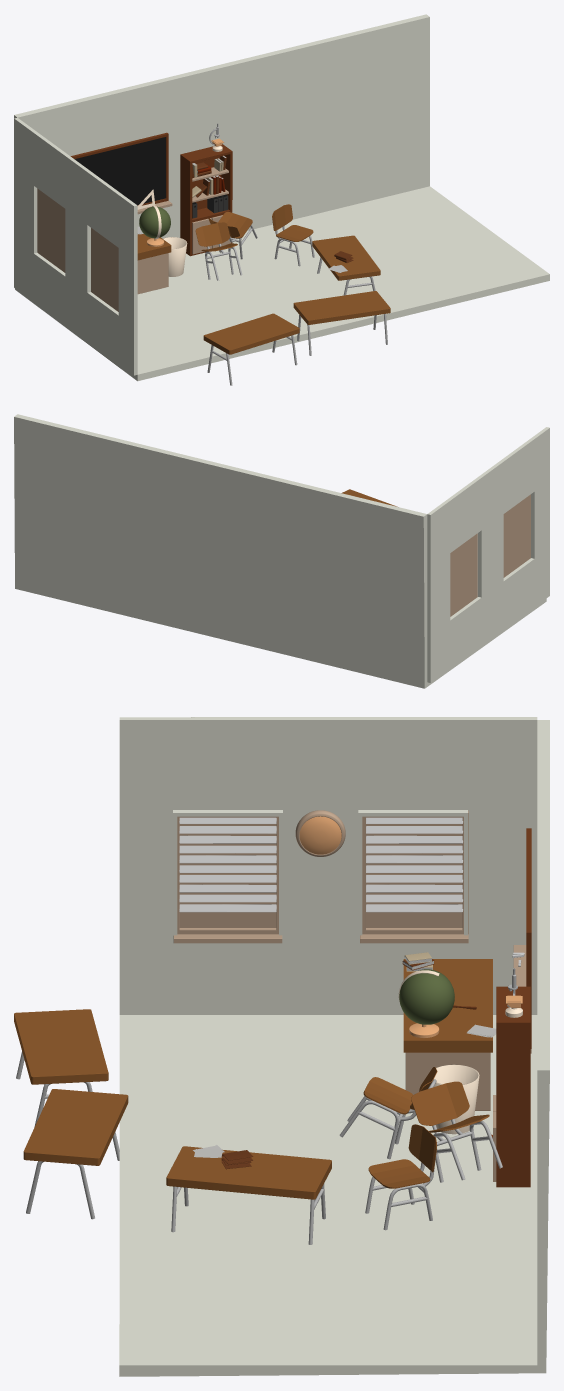
File: classroom.fbx
3 renders of one model, top to bottom at view 1: azimuth 30°, elevation 25°; view 2: azimuth 150°, elevation 25°; view 3: azimuth 270°, elevation 25°, orthographic. The views are drawn at different scales.
Visible parts, largest first — view 1: Plane.029, Plane.030, Plane.005, Plane.004, Plane.011, Plane.002, Cube.003, Cube.001, Plane.091, Plane.010, Plane.009, Plane.001 (+5 smaller); view 2: Plane.029, Plane.030, Cube.003, Cube.001; view 3: Plane.029, Plane.030, Cube.007, Cube.008, Plane.004, Plane.011, Plane.002, Plane.091, Cube.003, Cube.001, Plane.003, Plane (+10 smaller).
Boxes of the visible parts, bbox=[...] form: Plane.029: bbox=[14, 14, 549, 381]; Plane.030: bbox=[14, 117, 137, 375]; Plane.005: bbox=[70, 132, 168, 205]; Plane.004: bbox=[180, 144, 232, 256]; Plane.011: bbox=[293, 291, 390, 324]; Plane.002: bbox=[203, 313, 299, 354]; Cube.003: bbox=[37, 188, 65, 272]; Cube.001: bbox=[91, 228, 118, 311]; Plane.091: bbox=[312, 235, 380, 280]; Plane.010: bbox=[195, 222, 242, 280]; Plane.009: bbox=[272, 204, 314, 266]; Plane.001: bbox=[137, 253, 168, 294]; Plane.029: bbox=[14, 414, 546, 688]; Plane.030: bbox=[427, 427, 549, 682]; Cube.003: bbox=[450, 533, 477, 616]; Cube.001: bbox=[503, 494, 530, 577]; Plane.029: bbox=[119, 720, 549, 1376]; Plane.030: bbox=[119, 717, 537, 1014]; Cube.007: bbox=[179, 817, 276, 912]; Cube.008: bbox=[366, 817, 463, 912]; Plane.004: bbox=[496, 986, 530, 1187]; Plane.011: bbox=[23, 1089, 128, 1165]; Plane.002: bbox=[14, 1009, 108, 1084]; Plane.091: bbox=[166, 1146, 331, 1199]; Cube.003: bbox=[362, 810, 468, 934]; Cube.001: bbox=[177, 816, 278, 934]; Plane.003: bbox=[403, 959, 492, 1052]; Plane: bbox=[173, 810, 467, 940].
Size of the model in its own units: 370 by 150 by 237.
